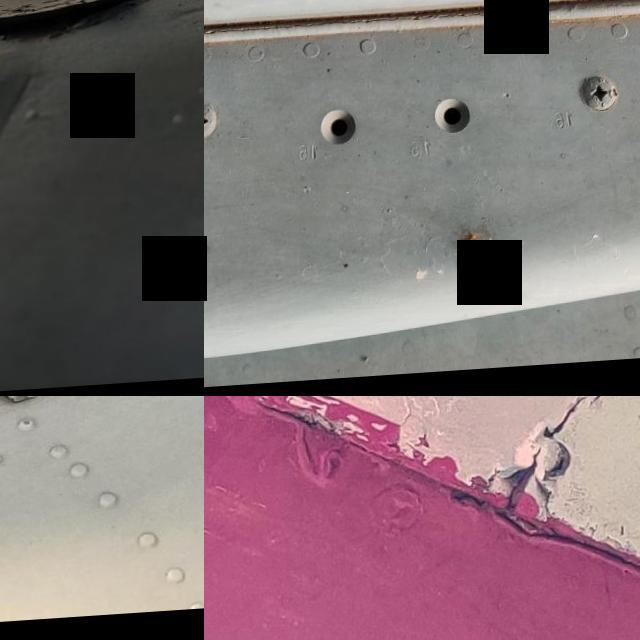Crack: (449, 396, 640, 547), (0, 0, 166, 67)
Missing_Fastener: (292, 87, 374, 181), (406, 84, 490, 166)
